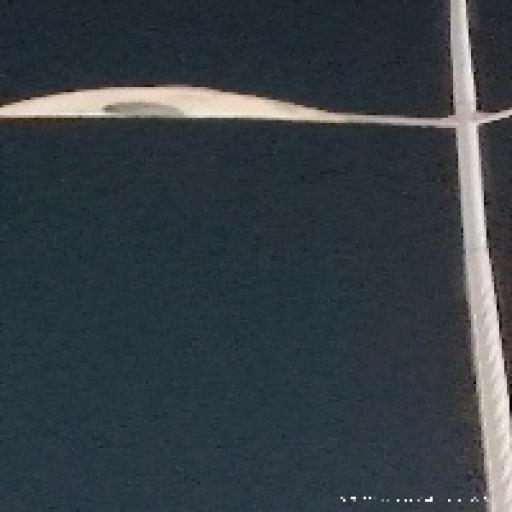Not Working: (1, 53, 343, 187)
